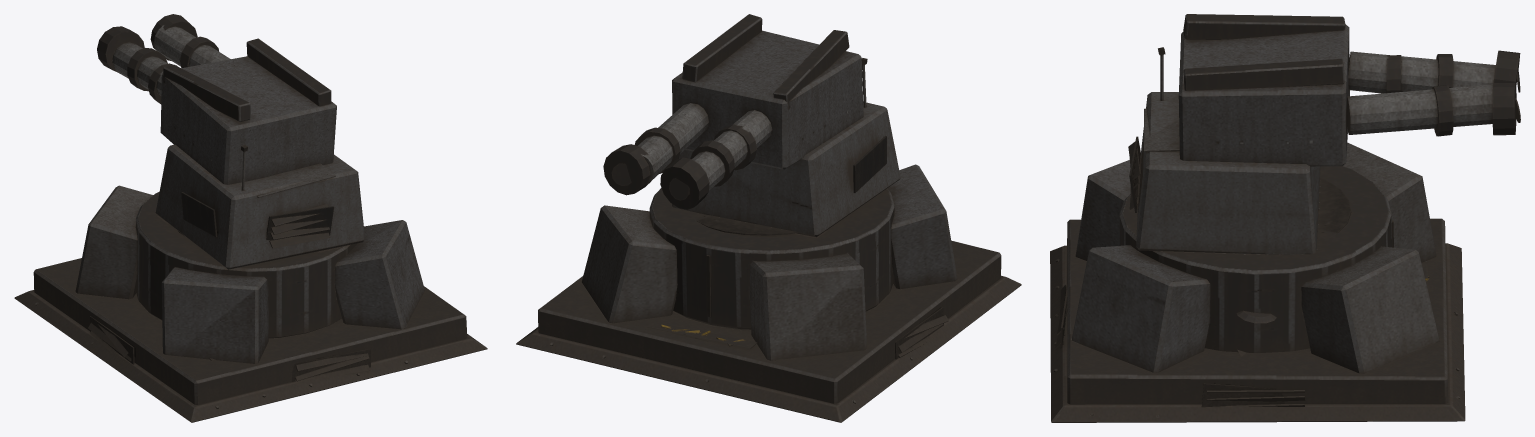
File: chs_talos_wreck.fbx
3 renders of one model, left to right at view 1: azimuth 30°, elevation 25°; view 2: azimuth 150°, elevation 25°; view 3: azimuth 270°, elevation 25°, orthographic. The views are drawn at different scales.
Visible parts, largest first — view 1: base_bar, barrel_bar, turret_bar; view 2: base_bar, barrel_bar, turret_bar; view 3: base_bar, barrel_bar, turret_bar.
Part boxes in pixels (<box>): base_bar: <box>14,185,487,422</box>; barrel_bar: <box>97,14,336,184</box>; turret_bar: <box>155,144,365,269</box>; base_bar: <box>516,164,1021,422</box>; barrel_bar: <box>603,14,863,209</box>; turret_bar: <box>672,58,900,237</box>; base_bar: <box>1050,142,1465,422</box>; barrel_bar: <box>1178,14,1520,166</box>; turret_bar: <box>1128,47,1320,254</box>.
Bounding box in the file's own units: 1168 × 1122 × 1319.
2 materials, 2 textured.
